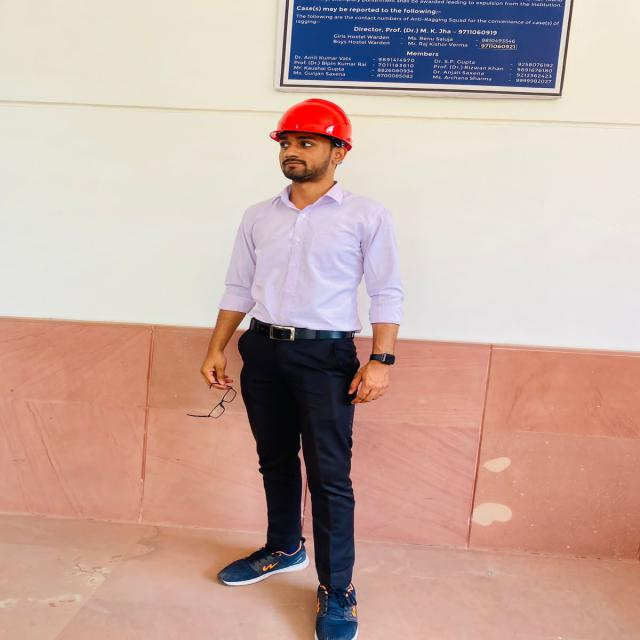no jacket: (217, 96, 406, 640)
